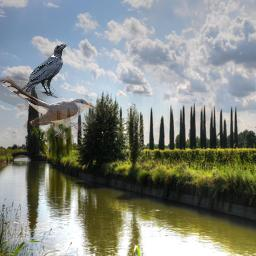Crow: (20, 43, 68, 98)
Cuckoo: (0, 76, 97, 138)
